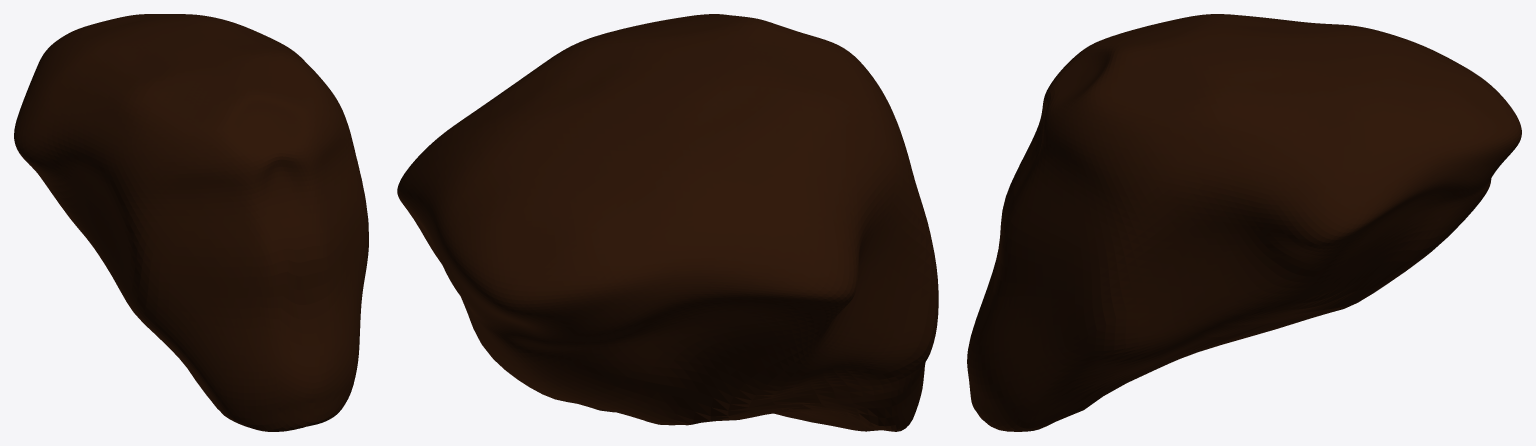
Rendered from Asteroid3.fbx.
The picture shows the model from 3 angles, left to right: view 1: azimuth 30°, elevation 25°; view 2: azimuth 150°, elevation 25°; view 3: azimuth 270°, elevation 25°; orthographic projection. The views are drawn at different scales.
Parts seen in each view (by area): view 1: Icosphere; view 2: Icosphere; view 3: Icosphere.
Boxes of the visible parts, bbox=[...] form: Icosphere: bbox=[14, 14, 368, 431]; Icosphere: bbox=[397, 14, 938, 431]; Icosphere: bbox=[967, 14, 1521, 431].
Bounding box in the file's own units: 1373 × 1341 × 1851.
